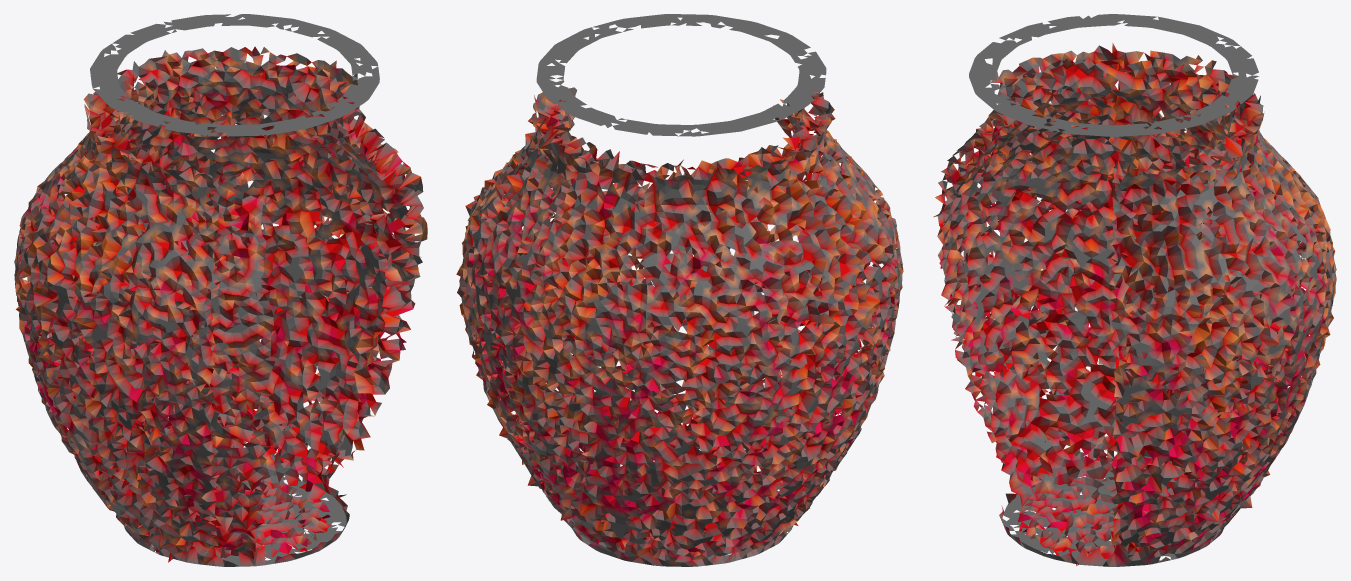
Rendered from vase_final400.obj.
3 renders of one model, left to right at view 1: azimuth 30°, elevation 25°; view 2: azimuth 150°, elevation 25°; view 3: azimuth 270°, elevation 25°, orthographic.
Size of the model in its own units: 1.56 by 1.76 by 1.4.
